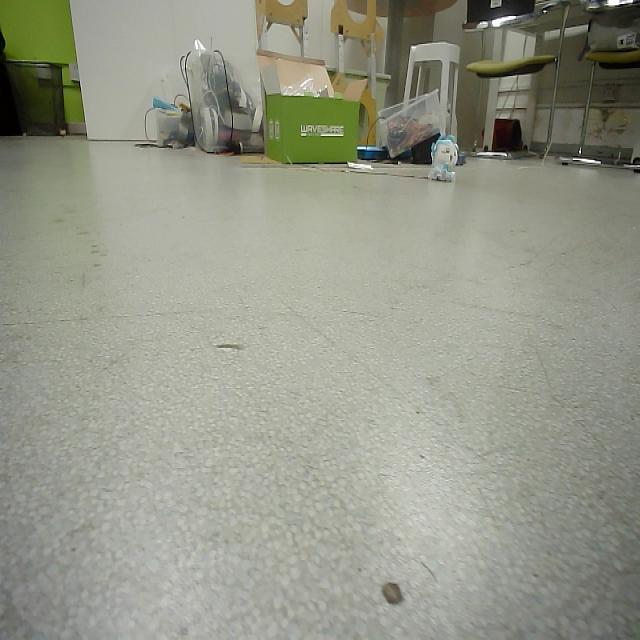xiaoba: (432, 129, 460, 188)
